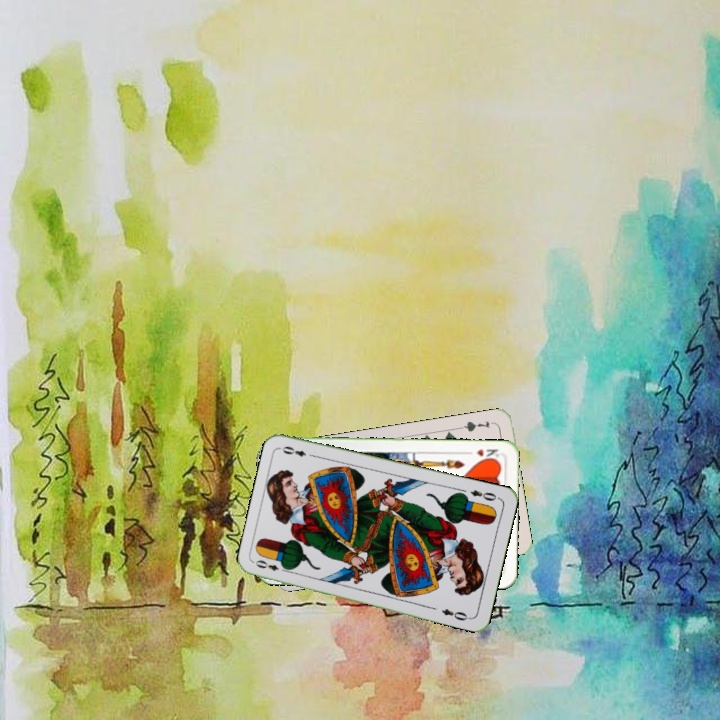EO: (251, 556, 291, 575), (466, 486, 502, 503)
G7: (456, 417, 492, 434)
HK: (472, 445, 501, 463)
